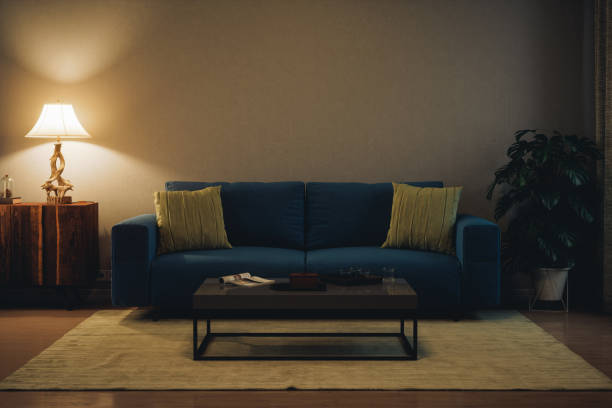large plant: (502, 125, 606, 312)
sofa: (107, 177, 505, 318)
table: (190, 271, 420, 363)
table lamp: (21, 100, 94, 203)
